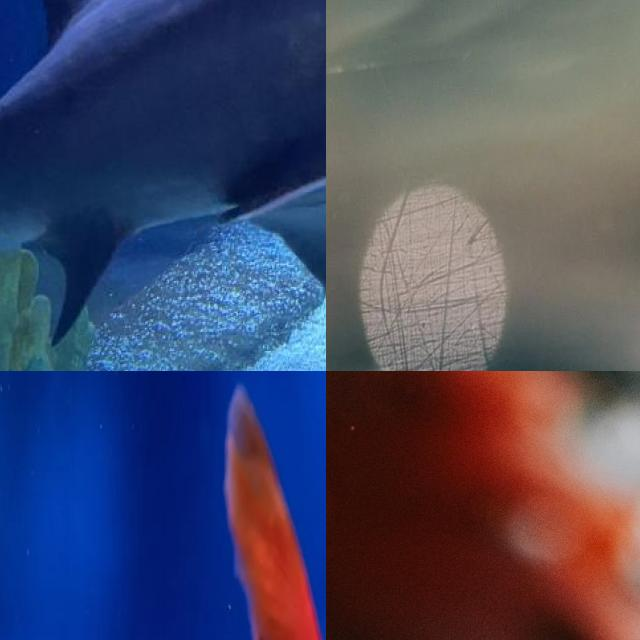fish: (0, 0, 326, 371), (326, 49, 496, 371)
